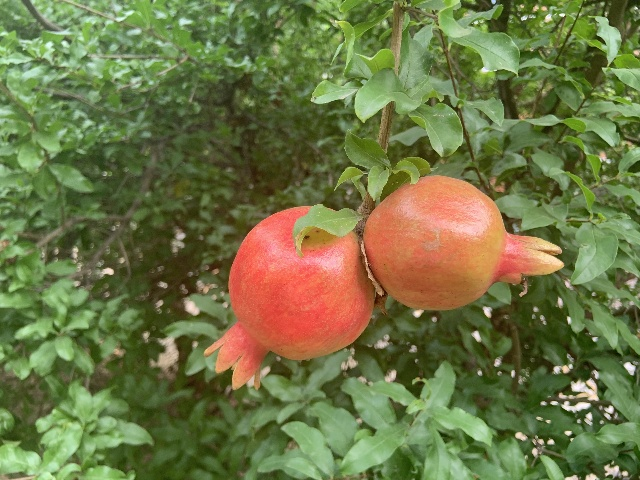ripe: (205, 206, 374, 392), (364, 175, 563, 310)
